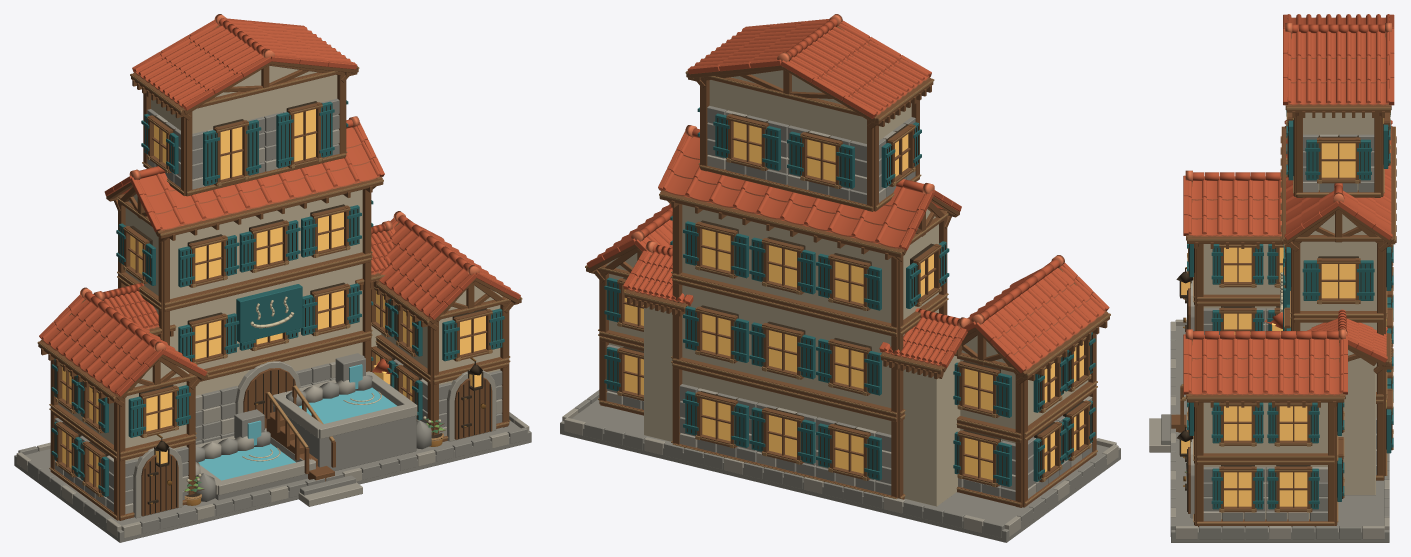
3 renders of one model, left to right at view 1: azimuth 30°, elevation 25°; view 2: azimuth 150°, elevation 25°; view 3: azimuth 270°, elevation 25°, orthographic. The views are drawn at different scales.
Visible parts, largest first — view 1: alpine_onsen_3_geometry, alpine_onsen_3_geometry ceramic; view 2: alpine_onsen_3_geometry, alpine_onsen_3_geometry ceramic; view 3: alpine_onsen_3_geometry, alpine_onsen_3_geometry ceramic.
Part boxes in pixels (bbox=[...]): alpine_onsen_3_geometry: bbox=[14, 25, 531, 542]; alpine_onsen_3_geometry ceramic: bbox=[39, 14, 520, 396]; alpine_onsen_3_geometry: bbox=[560, 26, 1120, 542]; alpine_onsen_3_geometry ceramic: bbox=[586, 14, 1109, 373]; alpine_onsen_3_geometry: bbox=[1149, 33, 1396, 542]; alpine_onsen_3_geometry ceramic: bbox=[1183, 14, 1394, 395].
Size of the model in its own units: 2.03 by 1.89 by 1.02.
